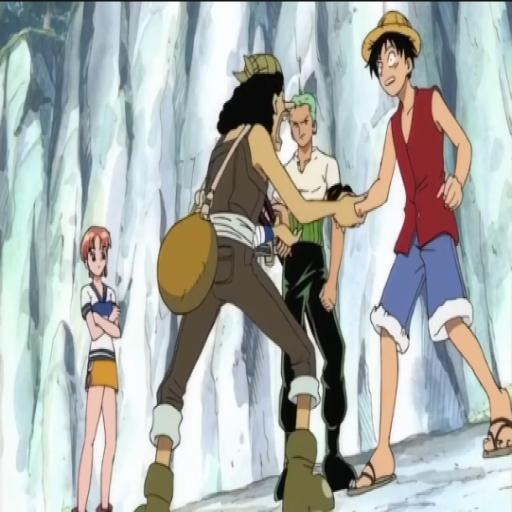Luffy: (339, 0, 512, 507)
Nami: (66, 215, 142, 512)
Usopp: (157, 58, 290, 512)
Zoro: (273, 82, 355, 420)
